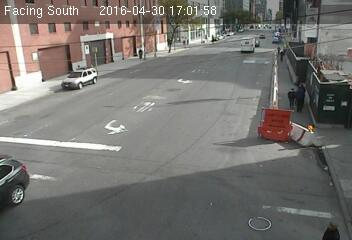neg: (28, 127, 56, 165), (254, 104, 279, 137), (232, 34, 255, 65), (103, 112, 122, 137), (145, 93, 161, 115), (241, 203, 256, 222)
pos: (283, 85, 298, 105), (324, 217, 337, 234), (136, 45, 145, 56), (280, 51, 287, 61), (277, 46, 282, 52)
